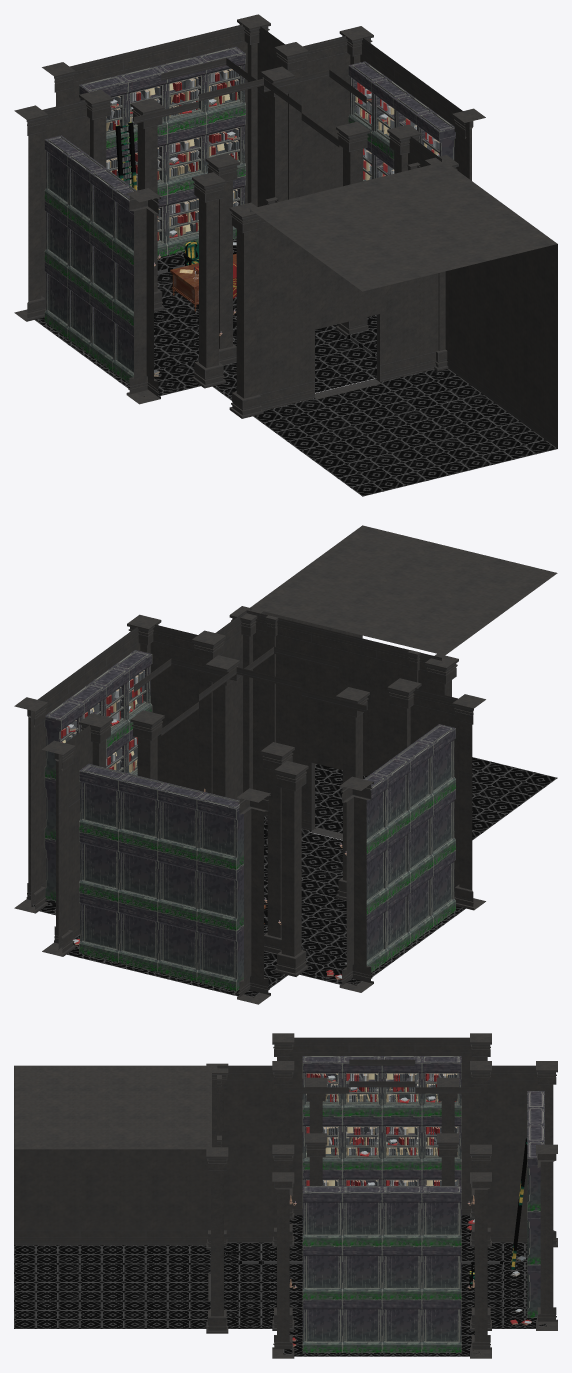
File: EchoRoom.fbx
3 renders of one model, top to bottom at view 1: azimuth 30°, elevation 25°; view 2: azimuth 150°, elevation 25°; view 3: azimuth 270°, elevation 25°, orthographic. The views are drawn at different scales.
Parts seen in each view (by area): view 1: wall, Floor, Bookshelfs_L, Bookshelfs_C, BookShelf_R, roof, desk, hasigo; view 2: wall, Bookshelfs_C, Bookshelfs_L, Floor, BookShelf_R, roof; view 3: wall, Floor, BookShelf_R, Bookshelfs_L, Bookshelfs_C, roof, hasigo.
Boxes of the visible parts, x1,y1,x2,y2 form: wall: (14, 14, 557, 448); Floor: (35, 238, 557, 496); Bookshelfs_L: (44, 135, 159, 383); Bookshelfs_C: (79, 46, 245, 257); BookShelf_R: (348, 61, 455, 181); roof: (134, 58, 366, 146); desk: (170, 253, 236, 311); hasigo: (115, 122, 136, 190); wall: (14, 525, 557, 1004); Bookshelfs_C: (72, 764, 243, 991); Bookshelfs_L: (326, 724, 455, 979); Floor: (31, 757, 557, 997); BookShelf_R: (44, 650, 152, 901); roof: (134, 646, 366, 735); wall: (14, 1033, 557, 1358); Floor: (14, 1215, 546, 1356); BookShelf_R: (292, 1186, 461, 1352); Bookshelfs_L: (302, 1056, 474, 1230); Bookshelfs_C: (510, 1091, 544, 1325); roof: (283, 1059, 480, 1093); hasigo: (511, 1138, 527, 1269).
Size of the model in its own units: 10.67 by 6.43 by 16.5.
